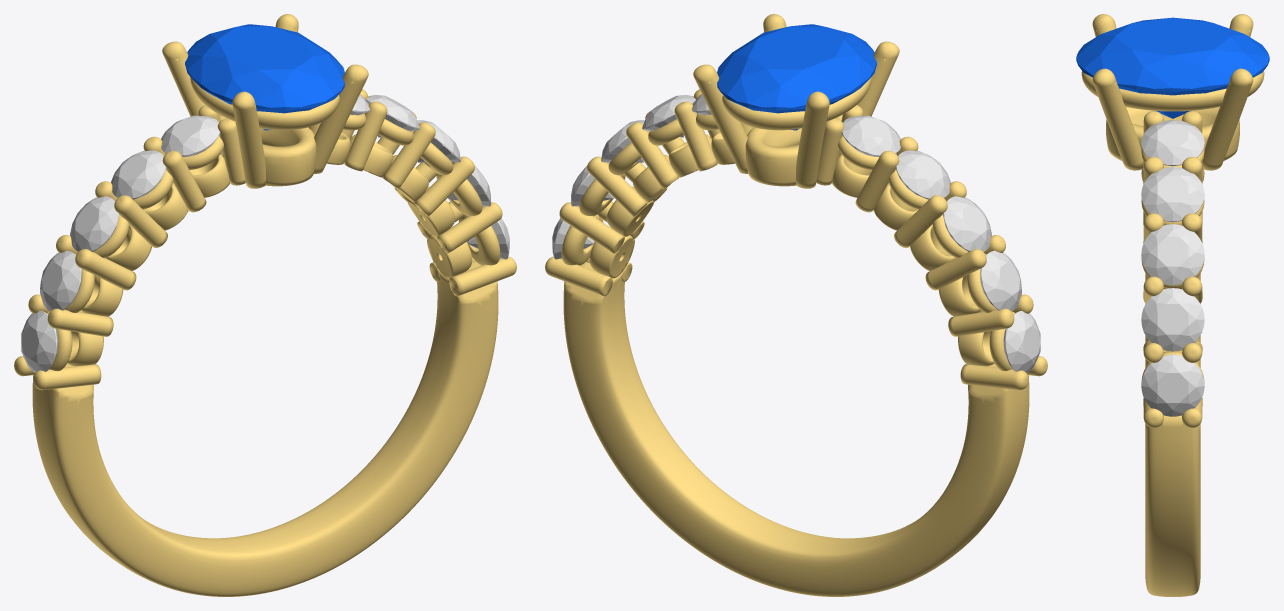
The model's file is bluesapphire-oval-yellowgold-4prong-straightband-11stone.glb.
The picture shows the model from 3 angles, left to right: view 1: azimuth 30°, elevation 25°; view 2: azimuth 150°, elevation 25°; view 3: azimuth 270°, elevation 25°; orthographic projection.
Visible parts, largest first — view 1: metal, stone, side.002, side.003, side.001, side.004, side, side.008, side.007; view 2: metal, stone, side.002, side.003, side.001, side.004, side, side.008, side.007; view 3: metal, stone, side.006, side.005, side.007, side.008, side.009.
Part boxes in pixels (x1,y1,x2,y2): metal: (14,14,516,596); stone: (185,24,344,130); side.002: (70,196,118,251); side.003: (111,150,166,199); side.001: (40,250,81,311); side.004: (161,115,220,156); side: (21,311,58,372); side.008: (365,95,419,137); side.007: (417,120,460,162); metal: (545,14,1047,596); stone: (717,24,876,130); side.002: (943,196,991,251); side.003: (895,150,950,199); side.001: (980,250,1021,311); side.004: (841,115,900,156); side: (1003,311,1040,372); side.008: (642,95,696,137); side.007: (601,120,644,162); metal: (1081,14,1264,596); stone: (1076,17,1269,118); side.006: (1141,288,1204,351); side.005: (1141,354,1204,416); side.007: (1141,224,1204,285); side.008: (1141,166,1204,222); side.009: (1141,120,1204,166).
Bounding box in the file's own units: 21.88 × 23.41 × 7.64.
